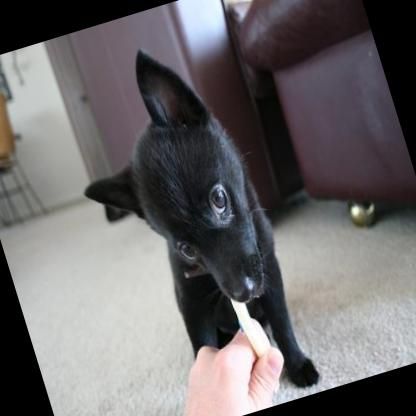schipperke: (46, 27, 322, 416)
